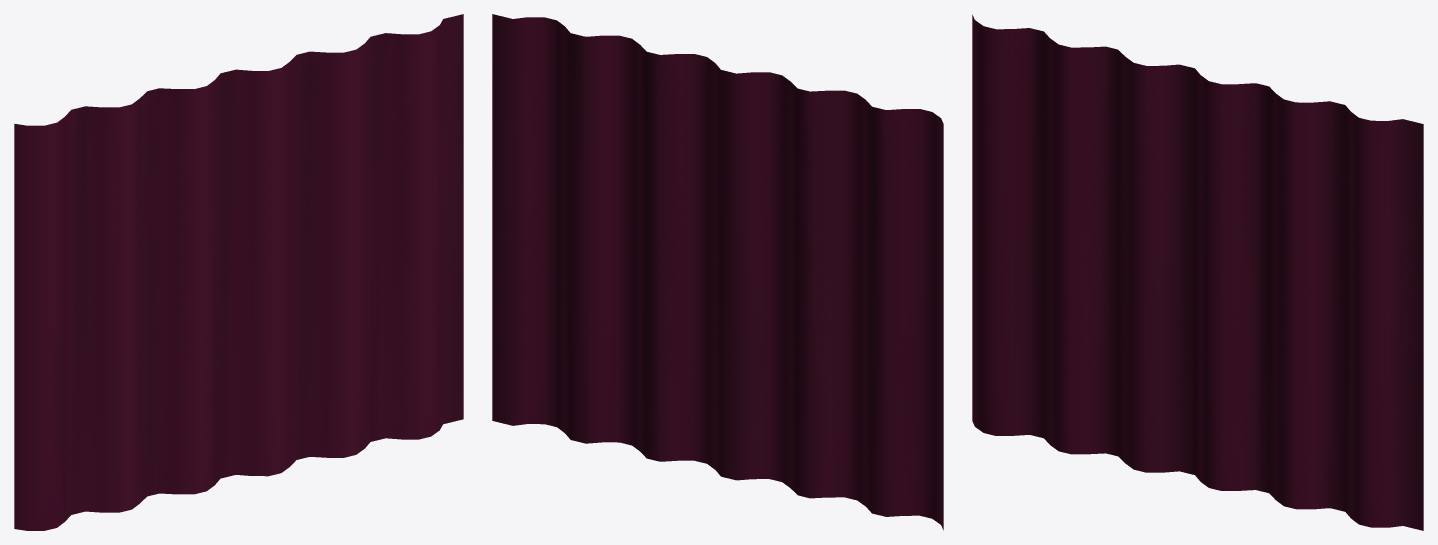
File: Curtain_BigPiece.fbx
3 views of the same model, side by side, from view 1: azimuth 30°, elevation 25°; view 2: azimuth 150°, elevation 25°; view 3: azimuth 330°, elevation 25° (orthographic).
Parts seen in each view (by area): view 1: CurtainBigPiece; view 2: CurtainBigPiece; view 3: CurtainBigPiece.
Part boxes in pixels (left/top/right/bottom): CurtainBigPiece: left=14, top=14, right=463, bottom=530; CurtainBigPiece: left=492, top=14, right=943, bottom=530; CurtainBigPiece: left=972, top=14, right=1423, bottom=530.
Bounding box in the file's own units: 290 × 250 × 10.72.
